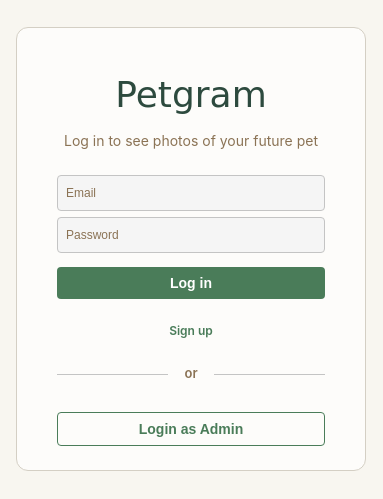
it: Login Page › shows error for empty password
The image size is (383, 499).
Step 1. Type "test@test.com" into the field with placeholder "Email" → (191, 193), box [57,175,325,211]
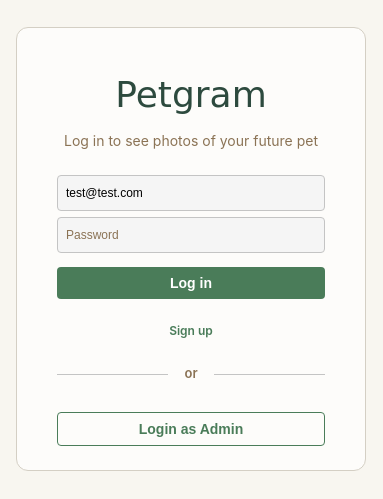
Step 2. Click the button "Log in" → click(191, 283), box [57,267,325,299]
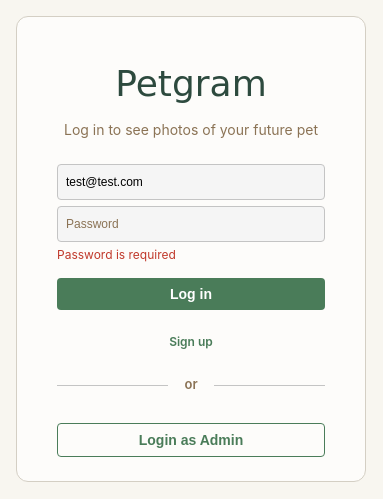
Expected: the text "Password is required" is shown, [57,247,176,262]
